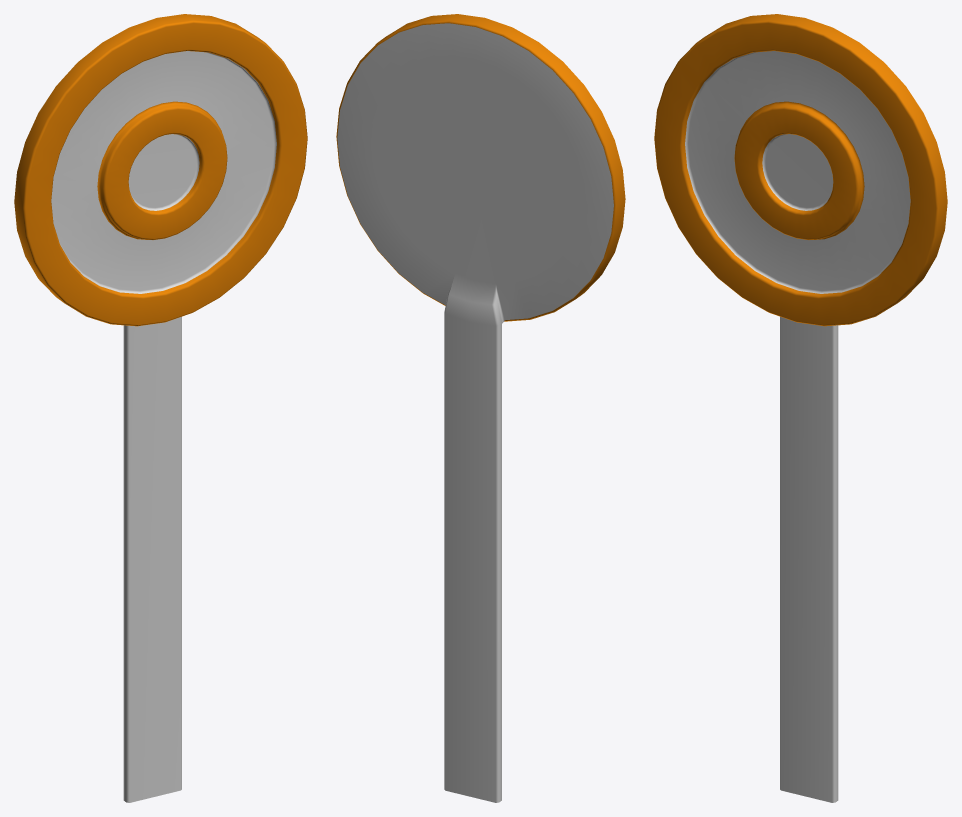
The model's file is target.fbx.
3 renders of one model, left to right at view 1: azimuth 30°, elevation 25°; view 2: azimuth 150°, elevation 25°; view 3: azimuth 330°, elevation 25°, orthographic.
Parts seen in each view (by area): view 1: target; view 2: target; view 3: target.
Part boxes in pixels (x1,y1,x2,y2): target: (14,14,307,802); target: (336,14,625,802); target: (654,14,947,802).
Bounding box in the file's own units: 90.96 × 238 × 8.88.
